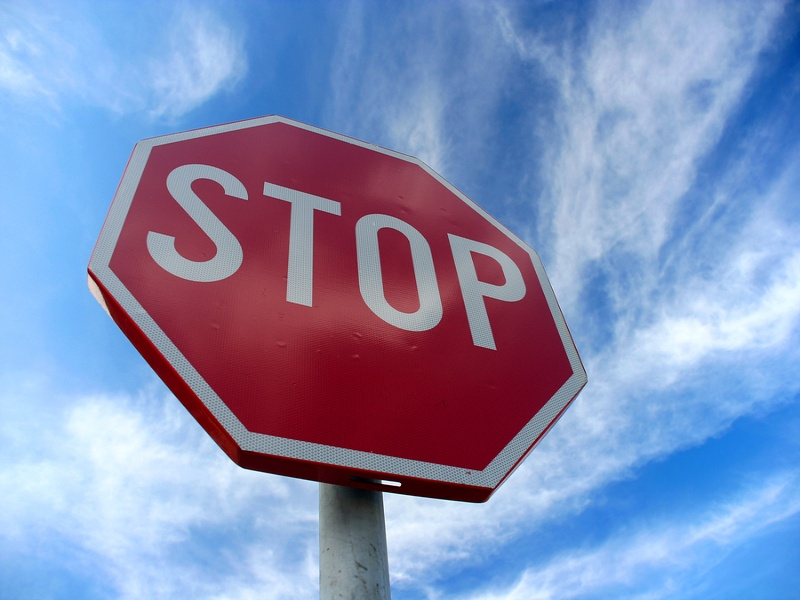stopsign: (58, 91, 705, 555)
